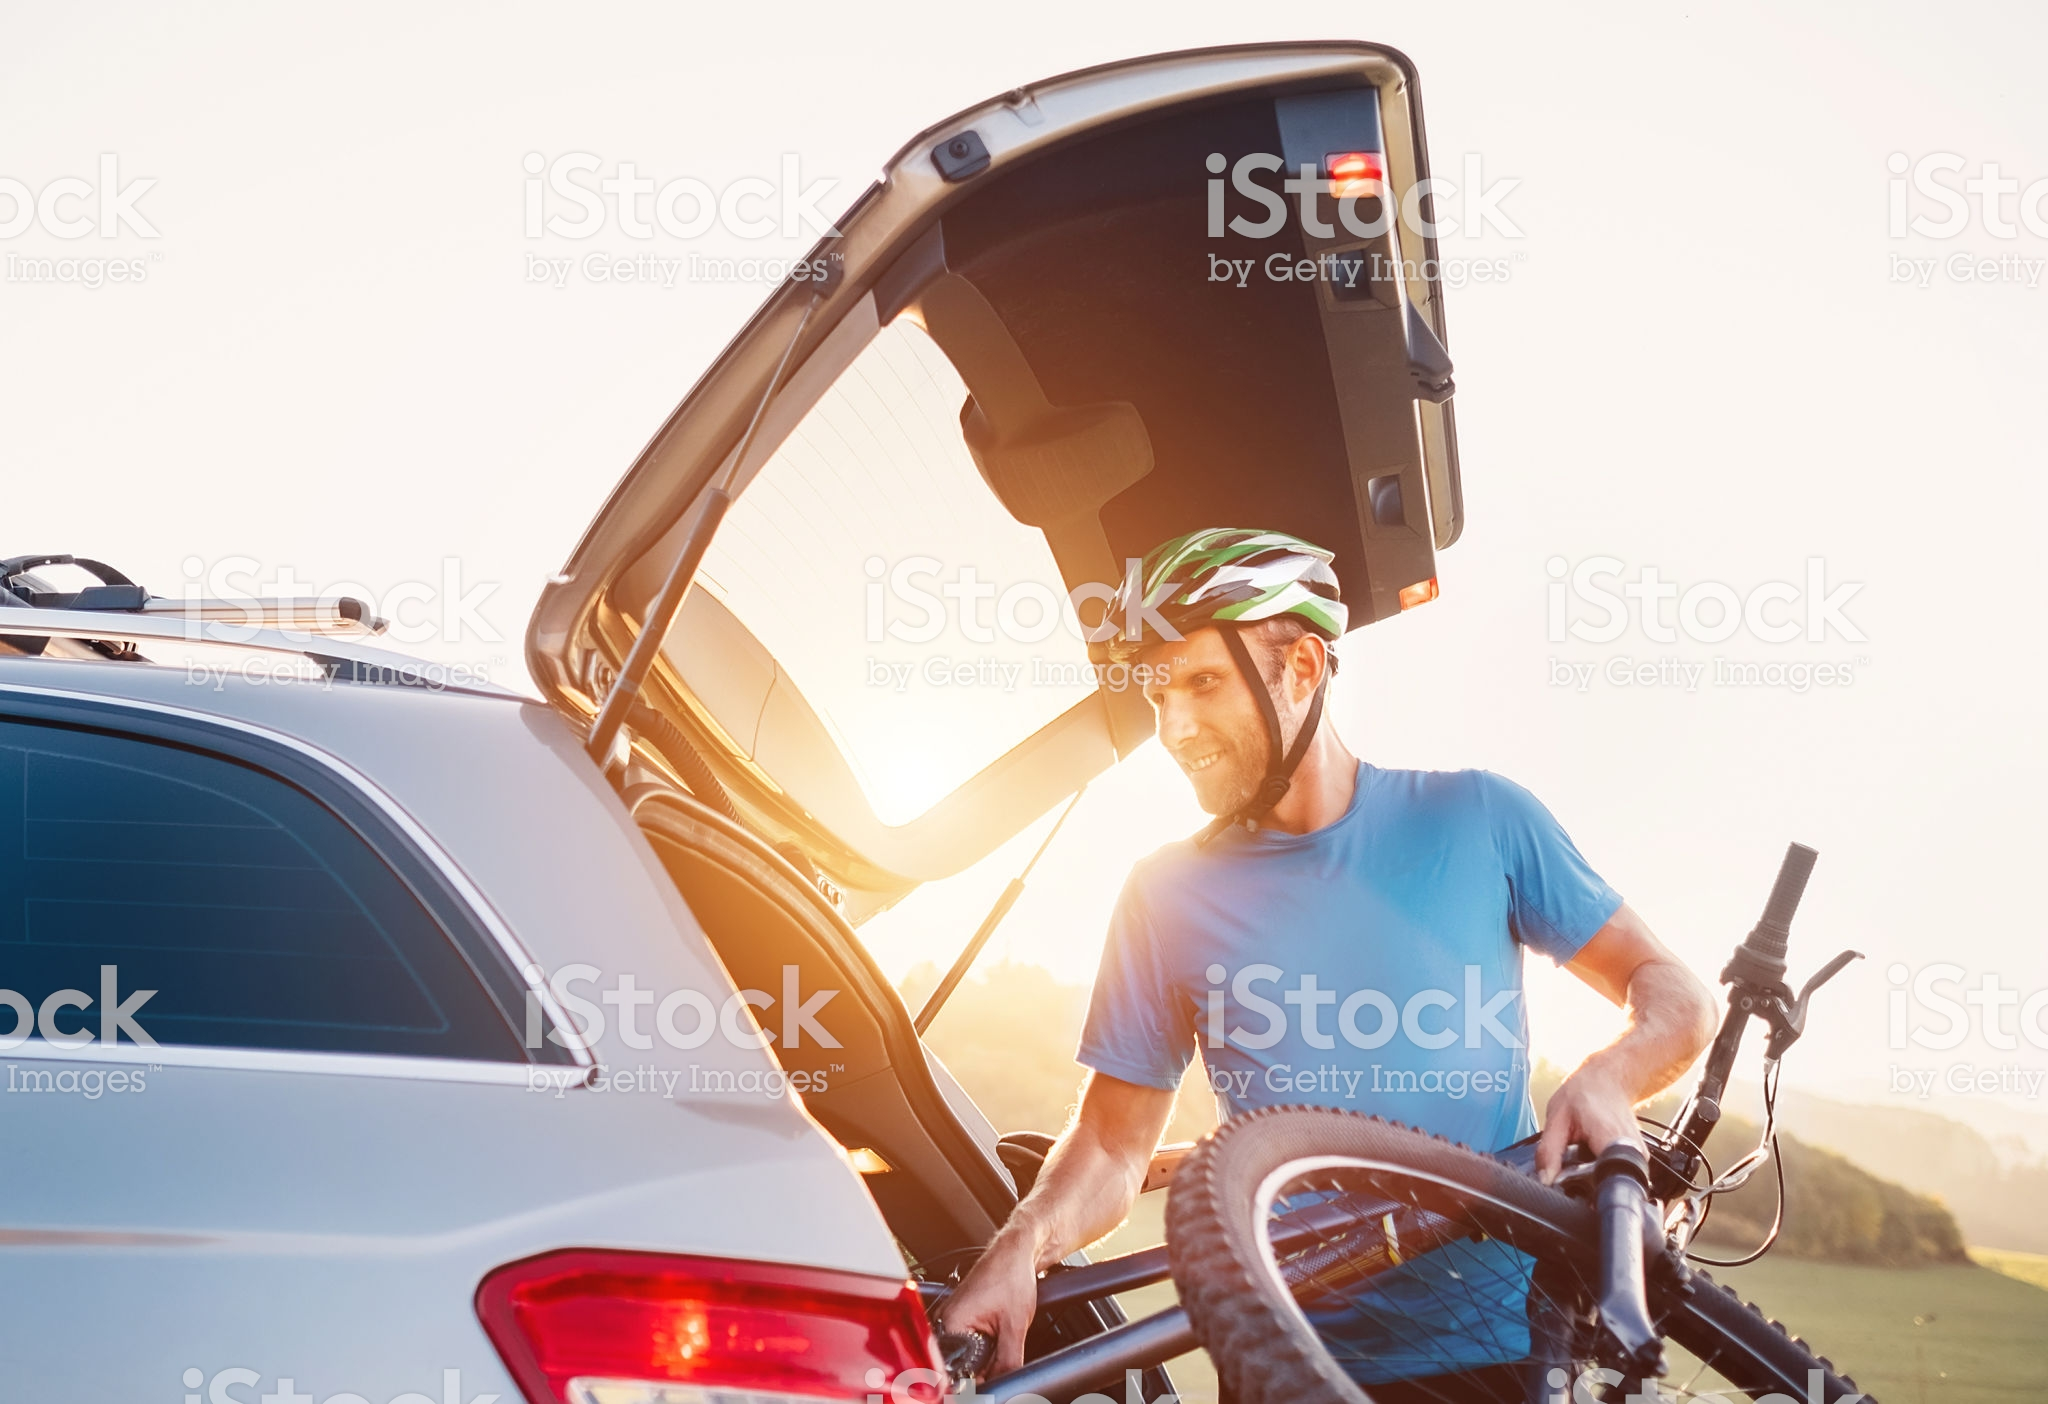helmet: (1114, 509, 1365, 635)
